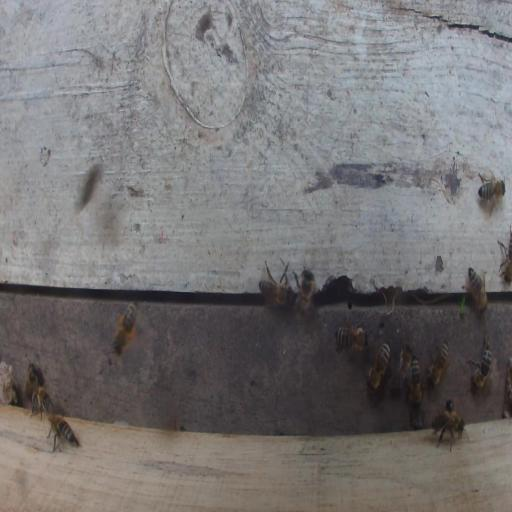bee: (258, 258, 293, 310), (334, 316, 370, 362), (466, 331, 493, 391), (431, 409, 466, 454), (111, 299, 138, 356), (366, 336, 391, 394), (478, 167, 507, 217), (427, 337, 454, 389), (460, 266, 489, 314), (291, 267, 316, 322), (46, 413, 80, 451), (405, 353, 428, 409), (388, 342, 414, 390), (497, 223, 512, 285), (31, 385, 54, 421), (26, 357, 41, 401)
